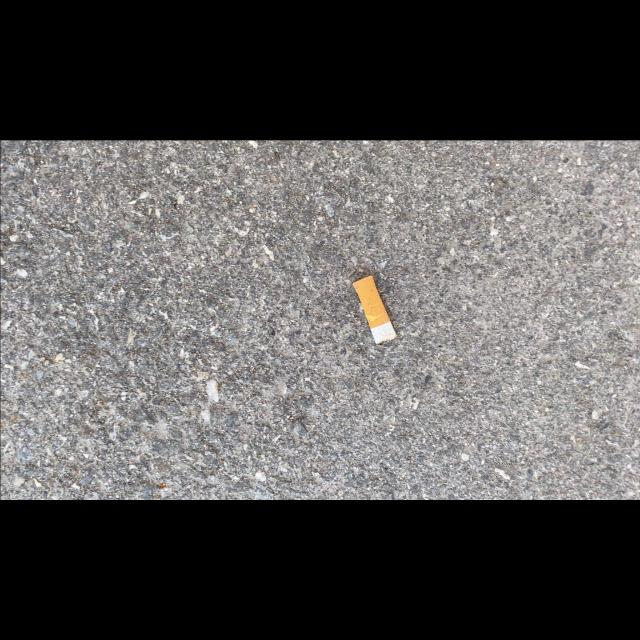cigarette: (352, 275, 397, 344)
